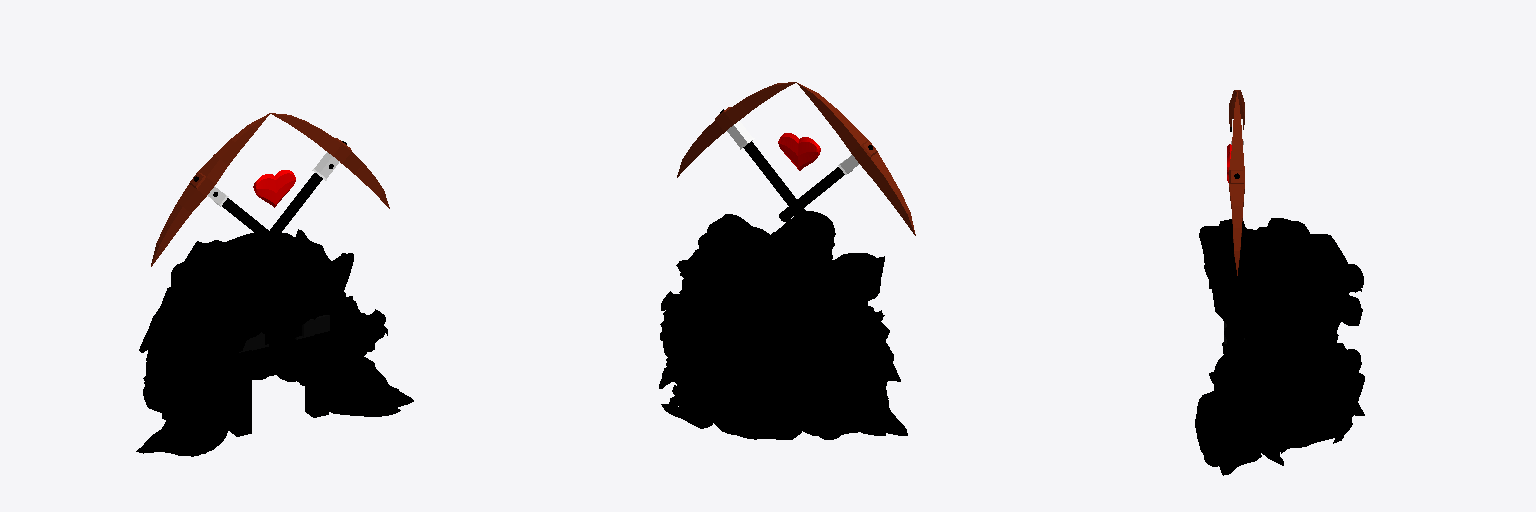
Rendered from LoveMATERIAL1.obj.
3 renders of one model, left to right at view 1: azimuth 30°, elevation 25°; view 2: azimuth 150°, elevation 25°; view 3: azimuth 270°, elevation 25°, orthographic.
Visible parts, largest first — view 1: MushroomsMATERIAL3:shard1, MushroomsMATERIAL3:pCube9, MushroomsMATERIAL3:shard18 MushroomsMATERIAL3:polySurface7, MushroomsMATERIAL3:solidShatter1 MushroomsMATERIAL3:shard6, MushroomsMATERIAL3:pCylinder6 MushroomsMATERIAL3:polySurface17, MushroomsMATERIAL3:solidShatter1 MushroomsMATERIAL3:shard8, MushroomsMATERIAL3:shard18 MushroomsMATERIAL3:polySurface6, MushroomsMATERIAL3:polySurface4 MushroomsMATERIAL3:shard18, MushroomsMATERIAL3:pCylinder6 MushroomsMATERIAL3:polySurface22, MushroomsMATERIAL3:solidShatter1 MushroomsMATERIAL3:shard32, MushroomsMATERIAL3:solidShatter1 MushroomsMATERIAL3:shard31, MushroomsMATERIAL3:solidShatter1 MushroomsMATERIAL3:shard21 (+9 smaller); view 2: MushroomsMATERIAL3:solidShatter1 MushroomsMATERIAL3:shard31, MushroomsMATERIAL3:solidShatter1 MushroomsMATERIAL3:shard22, MushroomsMATERIAL3:solidShatter1 MushroomsMATERIAL3:shard21, MushroomsMATERIAL3:solidShatter1 MushroomsMATERIAL3:shard30, MushroomsMATERIAL3:solidShatter1 MushroomsMATERIAL3:shard24, MushroomsMATERIAL3:solidShatter1 MushroomsMATERIAL3:shard26, MushroomsMATERIAL3:pCylinder6 MushroomsMATERIAL3:polySurface17, MushroomsMATERIAL3:shard1, MushroomsMATERIAL3:solidShatter1 MushroomsMATERIAL3:shard6, MushroomsMATERIAL3:solidShatter1 MushroomsMATERIAL3:shard25, MushroomsMATERIAL3:pCylinder6 MushroomsMATERIAL3:polySurface22, MushroomsMATERIAL3:solidShatter1 MushroomsMATERIAL3:shard8 (+14 smaller); view 3: MushroomsMATERIAL3:shard18 MushroomsMATERIAL3:polySurface8, MushroomsMATERIAL3:shard18 MushroomsMATERIAL3:polySurface7, MushroomsMATERIAL3:solidShatter1 MushroomsMATERIAL3:shard21, MushroomsMATERIAL3:shard18 MushroomsMATERIAL3:polySurface9, MushroomsMATERIAL3:solidShatter1 MushroomsMATERIAL3:shard6, MushroomsMATERIAL3:polySurface4 MushroomsMATERIAL3:shard18, MushroomsMATERIAL3:solidShatter1 MushroomsMATERIAL3:shard22, MushroomsMATERIAL3:pCylinder6 MushroomsMATERIAL3:polySurface22, MushroomsMATERIAL3:shard18 MushroomsMATERIAL3:polySurface10, MushroomsMATERIAL3:solidShatter1 MushroomsMATERIAL3:shard24, MushroomsMATERIAL3:solidShatter1 MushroomsMATERIAL3:shard8, MushroomsMATERIAL3:solidShatter1 MushroomsMATERIAL3:shard27 (+6 smaller).
Boxes of the visible parts, x1=… form: MushroomsMATERIAL3:shard1: x1=136, y1=280, x2=259, y2=456; MushroomsMATERIAL3:pCube9: x1=229, y1=311, x2=329, y2=436; MushroomsMATERIAL3:shard18 MushroomsMATERIAL3:polySurface7: x1=325, y1=351, x2=413, y2=416; MushroomsMATERIAL3:solidShatter1 MushroomsMATERIAL3:shard6: x1=248, y1=258, x2=311, y2=333; MushroomsMATERIAL3:pCylinder6 MushroomsMATERIAL3:polySurface17: x1=151, y1=113, x2=269, y2=266; MushroomsMATERIAL3:solidShatter1 MushroomsMATERIAL3:shard8: x1=171, y1=260, x2=254, y2=293; MushroomsMATERIAL3:shard18 MushroomsMATERIAL3:polySurface6: x1=327, y1=300, x2=372, y2=361; MushroomsMATERIAL3:polySurface4 MushroomsMATERIAL3:shard18: x1=292, y1=253, x2=353, y2=310; MushroomsMATERIAL3:pCylinder6 MushroomsMATERIAL3:polySurface22: x1=270, y1=113, x2=389, y2=208; MushroomsMATERIAL3:solidShatter1 MushroomsMATERIAL3:shard32: x1=162, y1=333, x2=205, y2=420; MushroomsMATERIAL3:solidShatter1 MushroomsMATERIAL3:shard31: x1=144, y1=316, x2=198, y2=399; MushroomsMATERIAL3:solidShatter1 MushroomsMATERIAL3:shard21: x1=224, y1=233, x2=309, y2=272; MushroomsMATERIAL3:solidShatter1 MushroomsMATERIAL3:shard31: x1=772, y1=322, x2=900, y2=399; MushroomsMATERIAL3:solidShatter1 MushroomsMATERIAL3:shard22: x1=749, y1=251, x2=814, y2=345; MushroomsMATERIAL3:solidShatter1 MushroomsMATERIAL3:shard21: x1=701, y1=239, x2=763, y2=336; MushroomsMATERIAL3:solidShatter1 MushroomsMATERIAL3:shard30: x1=711, y1=382, x2=797, y2=434; MushroomsMATERIAL3:solidShatter1 MushroomsMATERIAL3:shard24: x1=666, y1=325, x2=739, y2=382; MushroomsMATERIAL3:solidShatter1 MushroomsMATERIAL3:shard26: x1=745, y1=287, x2=880, y2=362; MushroomsMATERIAL3:pCylinder6 MushroomsMATERIAL3:polySurface17: x1=796, y1=82, x2=915, y2=235; MushroomsMATERIAL3:shard1: x1=833, y1=253, x2=907, y2=435; MushroomsMATERIAL3:solidShatter1 MushroomsMATERIAL3:shard6: x1=754, y1=211, x2=835, y2=259; MushroomsMATERIAL3:solidShatter1 MushroomsMATERIAL3:shard25: x1=758, y1=386, x2=868, y2=436; MushroomsMATERIAL3:pCylinder6 MushroomsMATERIAL3:polySurface22: x1=677, y1=82, x2=795, y2=177; MushroomsMATERIAL3:solidShatter1 MushroomsMATERIAL3:shard8: x1=787, y1=249, x2=839, y2=306; MushroomsMATERIAL3:shard18 MushroomsMATERIAL3:polySurface8: x1=1254, y1=337, x2=1322, y2=453; MushroomsMATERIAL3:shard18 MushroomsMATERIAL3:polySurface7: x1=1195, y1=391, x2=1261, y2=475; MushroomsMATERIAL3:solidShatter1 MushroomsMATERIAL3:shard21: x1=1249, y1=250, x2=1363, y2=300; MushroomsMATERIAL3:shard18 MushroomsMATERIAL3:polySurface9: x1=1244, y1=295, x2=1328, y2=390; MushroomsMATERIAL3:solidShatter1 MushroomsMATERIAL3:shard6: x1=1202, y1=227, x2=1255, y2=297; MushroomsMATERIAL3:polySurface4 MushroomsMATERIAL3:shard18: x1=1211, y1=278, x2=1265, y2=339; MushroomsMATERIAL3:solidShatter1 MushroomsMATERIAL3:shard22: x1=1248, y1=234, x2=1361, y2=301; MushroomsMATERIAL3:pCylinder6 MushroomsMATERIAL3:polySurface22: x1=1229, y1=93, x2=1244, y2=275; MushroomsMATERIAL3:shard18 MushroomsMATERIAL3:polySurface10: x1=1294, y1=281, x2=1355, y2=345; MushroomsMATERIAL3:solidShatter1 MushroomsMATERIAL3:shard24: x1=1318, y1=335, x2=1361, y2=392; MushroomsMATERIAL3:solidShatter1 MushroomsMATERIAL3:shard8: x1=1248, y1=218, x2=1309, y2=261; MushroomsMATERIAL3:solidShatter1 MushroomsMATERIAL3:shard27: x1=1246, y1=366, x2=1364, y2=435.
Size of the model in its own units: 17.49 by 20.56 by 9.94.